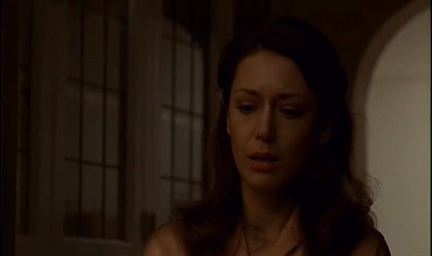cu: (1, 1, 432, 256)
face: (230, 69, 311, 191)
person: (141, 11, 392, 256)
